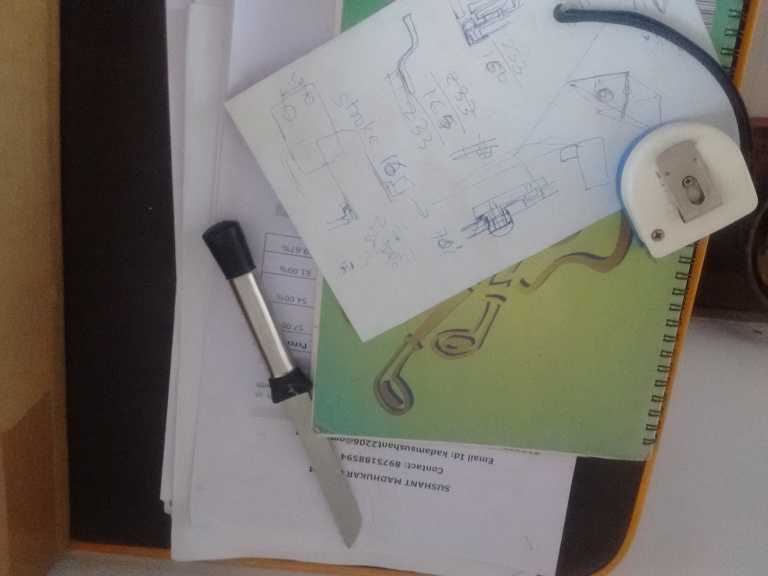knife: (200, 220, 365, 550)
